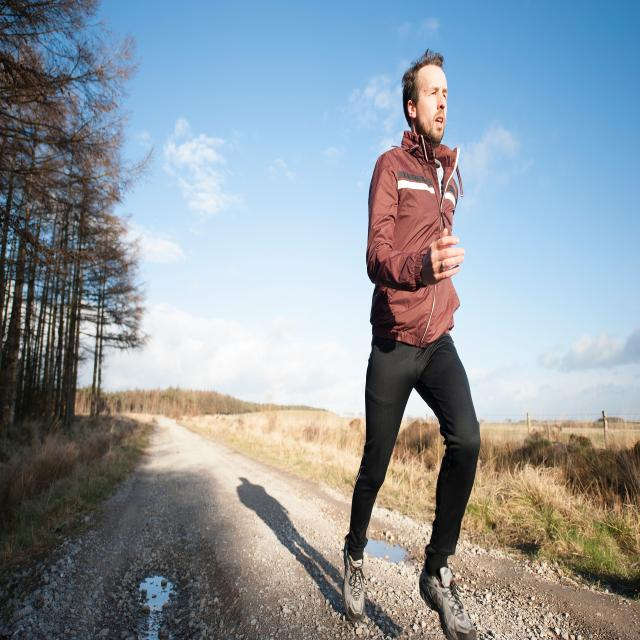running: (338, 51, 480, 640)
